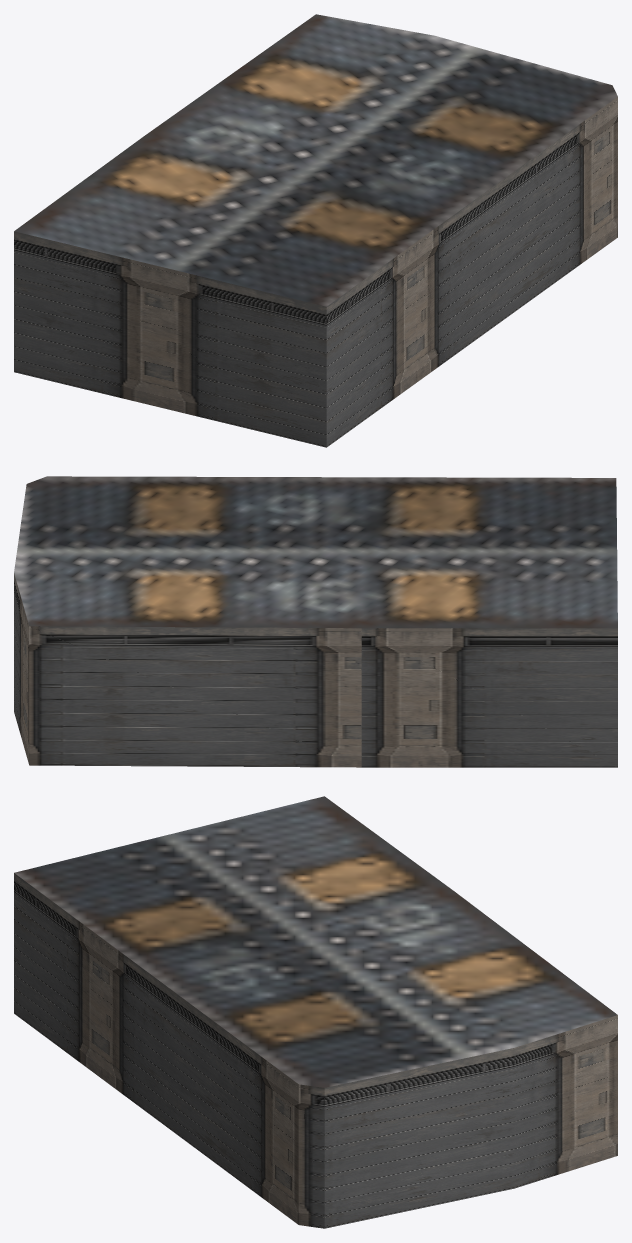
Rendered from hangar_medium_a_16.glb.
3 views of the same model, one above another, from view 1: azimuth 30°, elevation 25°; view 2: azimuth 150°, elevation 25°; view 3: azimuth 270°, elevation 25° (orthographic).
Parts seen in each view (by area): view 1: buildings/saxarba/hangar_medium/hangar_medium_a_16; view 2: buildings/saxarba/hangar_medium/hangar_medium_a_16; view 3: buildings/saxarba/hangar_medium/hangar_medium_a_16.
Boxes of the visible parts, <box> form: buildings/saxarba/hangar_medium/hangar_medium_a_16: <box>14,14,617,447</box>; buildings/saxarba/hangar_medium/hangar_medium_a_16: <box>14,476,617,767</box>; buildings/saxarba/hangar_medium/hangar_medium_a_16: <box>14,796,617,1228</box>.
Size of the model in its own units: 80 by 18 by 70.
